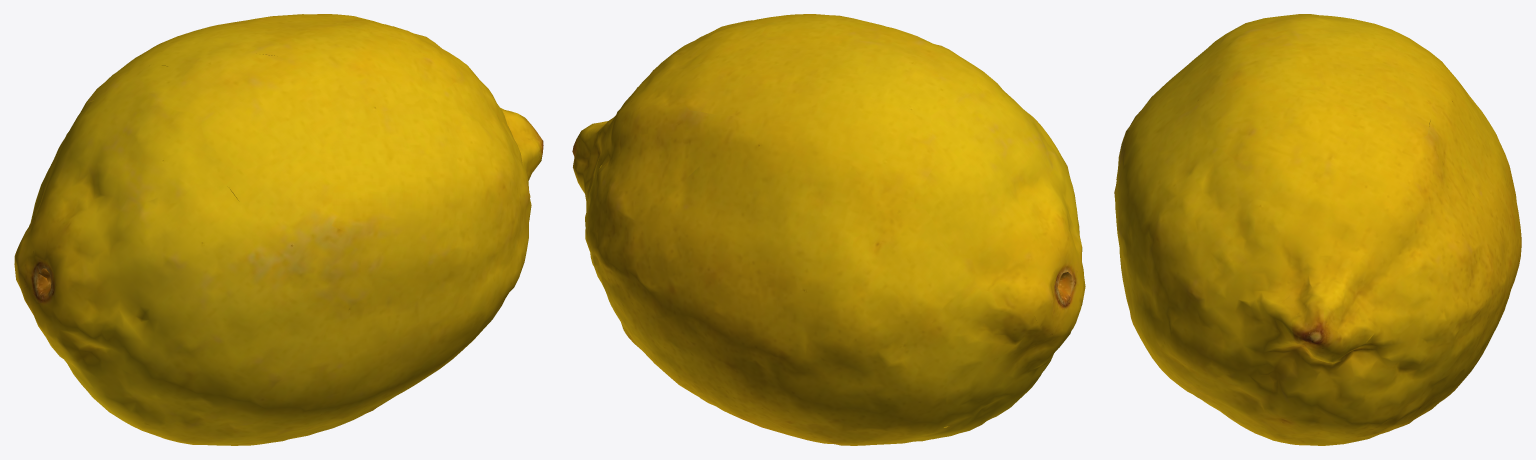
Rendered from lemon-1.glb.
3 views of the same model, side by side, from view 1: azimuth 30°, elevation 25°; view 2: azimuth 150°, elevation 25°; view 3: azimuth 270°, elevation 25° (orthographic). The views are drawn at different scales.
Visible parts, largest first — view 1: Object_2; view 2: Object_2; view 3: Object_2.
Part boxes in pixels (x1=…): Object_2: x1=14, y1=14, x2=543, y2=445; Object_2: x1=572, y1=14, x2=1085, y2=445; Object_2: x1=1114, y1=14, x2=1521, y2=445.
Bounding box in the file's own units: 0.1393 × 0.1024 × 0.1006.
1 material, 1 textured.
